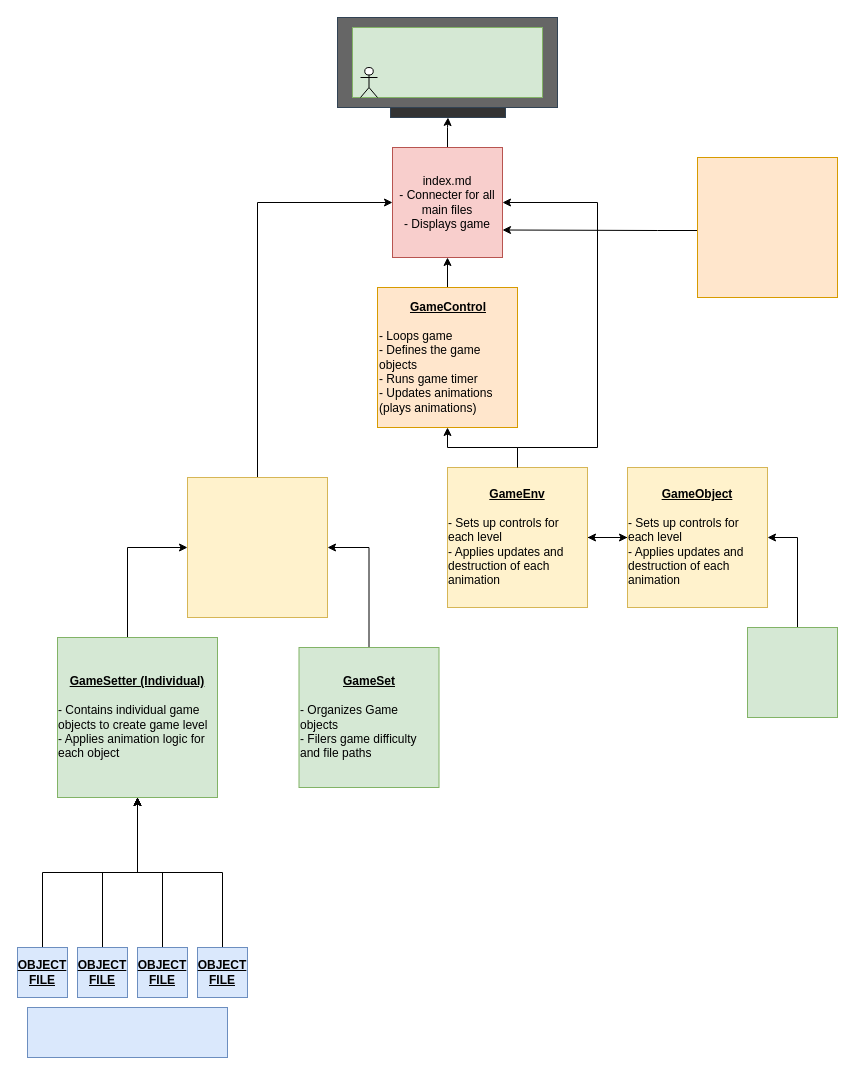
The diagram is 855 pixels wide and 1075 high, and some of its shapes have lost their labels. The shapes that lost their labels are listed below. From the top down, each one's box as (x1, y1, x2, y2) in pixels, then its label:
(352, 26, 542, 98): GAME
(696, 156, 838, 298): Leaderboard - Codes for multiplayer scores and coin scores
(186, 476, 328, 618): GameSetup - Applies each level - Links each level into separate files
(746, 626, 838, 718): Multiplayer - Code for Multiple players to play
(26, 1006, 228, 1058): Object Files - Code for each animation/object ~ Code for functions of object
